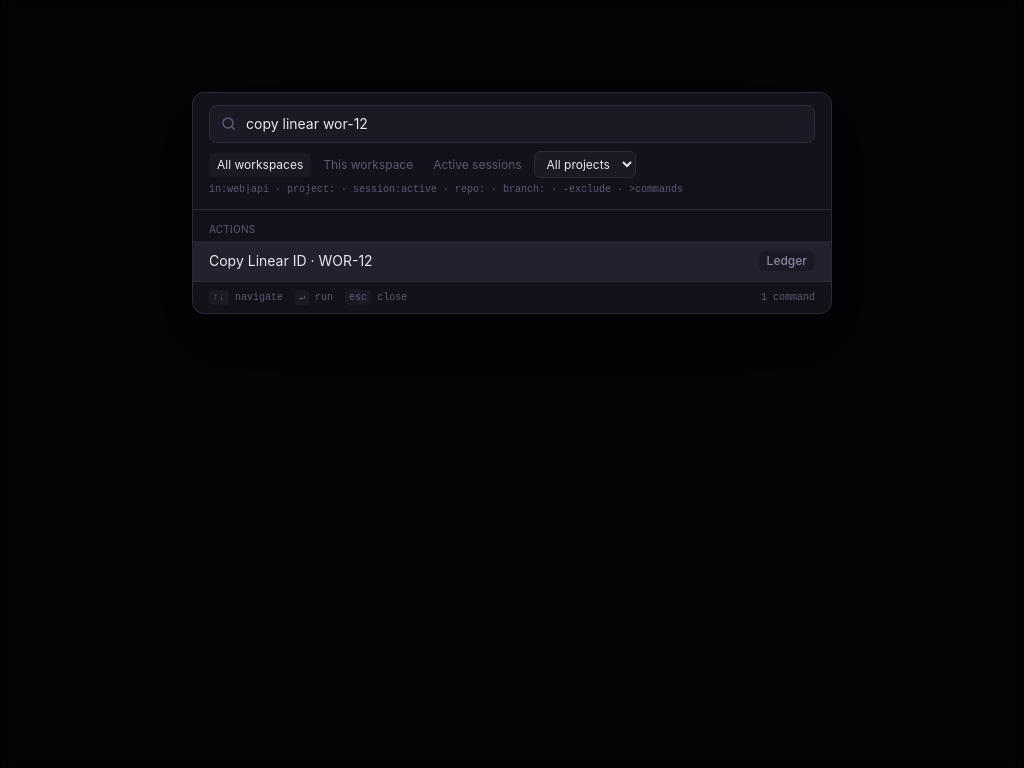
it: QuickSearchModal commands › copies the Linear identifier without closing
What coordinates should you click on to do the following:
click the button "Copy Linear ID · WOR-12 Ledger"
I would click on:
 (291, 261)
Its box is [193,241,831,281].
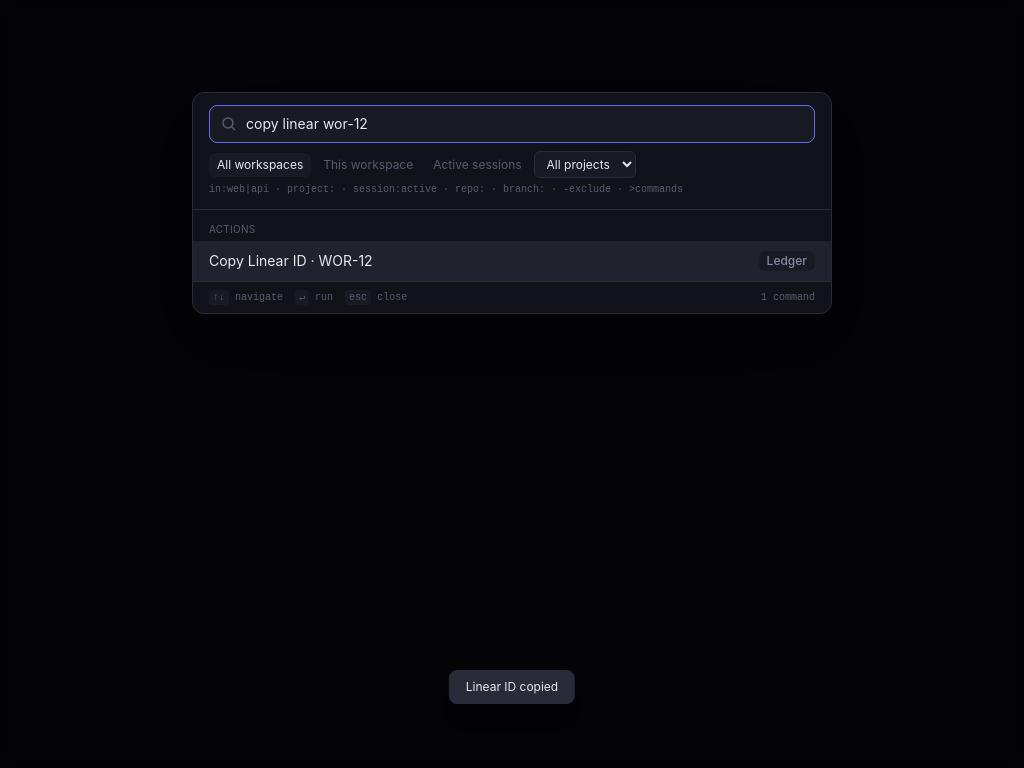
Expected: the text "Linear ID copied" is shown, [449,670,575,704]
